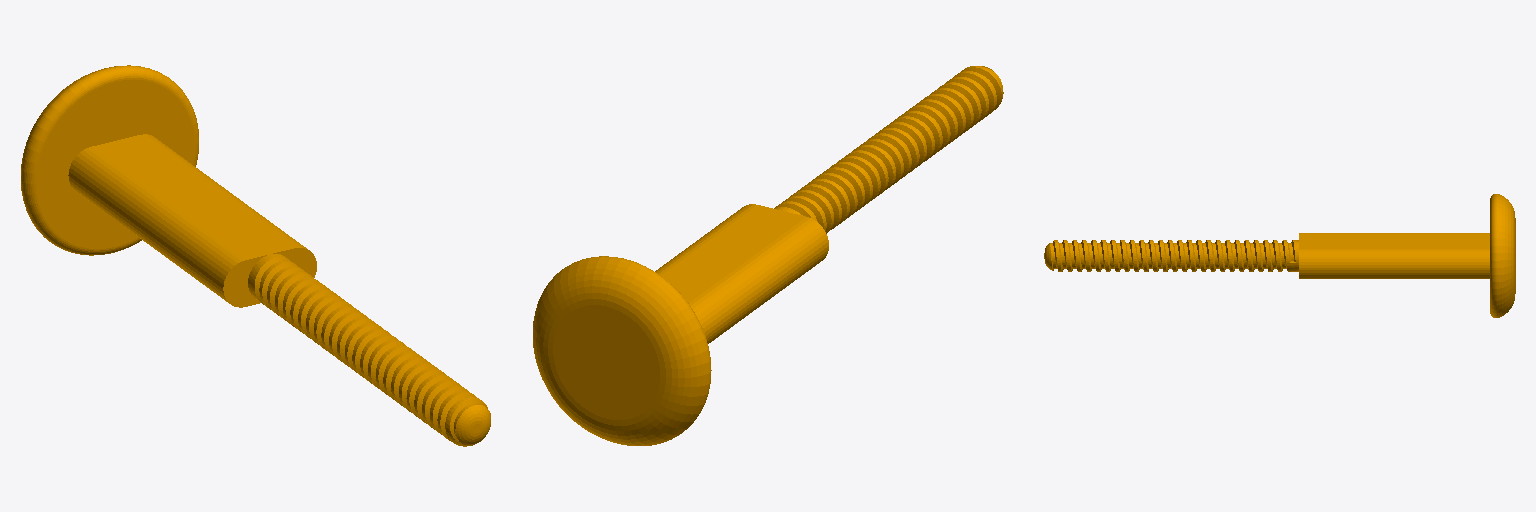
The robot description file, URDF, robot "meca_with_tool":
<?xml version="1.0" ?>
<!-- =================================================================================== -->
<!-- |    This document was autogenerated by xacro from meca_with_tool.xacro           | -->
<!-- |    EDITING THIS FILE BY HAND IS NOT RECOMMENDED                                 | -->
<!-- =================================================================================== -->
<robot name="meca_with_tool">
  <!-- Base link is the center of the robot's bottom plate -->
  <link name="meca_base_link">
    <visual>
      <origin rpy="0 0 0" xyz="0 0 0"/>
      <geometry>
        <mesh filename="package://meca_with_tool/meshes/visual/meca_500_r3_base.dae"/>
      </geometry>
    </visual>
    <collision>
      <origin rpy="0 0 0" xyz="0 0 0"/>
      <geometry>
        <mesh filename="package://meca_with_tool/meshes/collision/meca_500_r3_base_collision.stl"/>
      </geometry>
    </collision>
  </link>
  <!-- Joint 1 -->
  <link name="meca_axis_1_link">
    <visual>
      <origin rpy="0 0 0" xyz="0 0 0"/>
      <geometry>
        <mesh filename="package://meca_with_tool/meshes/visual/meca_500_r3_j1.dae"/>
      </geometry>
    </visual>
    <collision>
      <origin rpy="0 0 0" xyz="0 0 0"/>
      <geometry>
        <mesh filename="package://meca_with_tool/meshes/collision/meca_500_r3_j1_collision.stl"/>
      </geometry>
    </collision>
  </link>
  <joint name="meca_axis_1_joint" type="revolute">
    <origin rpy="0 0 0" xyz="0.012498 0 0.091"/>
    <parent link="meca_base_link"/>
    <child link="meca_axis_1_link"/>
    <axis xyz="0 0 1"/>
    <limit effort="10.0" lower="-3.05433" upper="3.05433" velocity="2.61799"/>
    <dynamics damping="1.0"/>
  </joint>
  <!-- Joint 2 -->
  <link name="meca_axis_2_link">
    <visual>
      <origin rpy="0 0 0" xyz="0 0 0"/>
      <geometry>
        <mesh filename="package://meca_with_tool/meshes/visual/meca_500_r3_j2.dae"/>
      </geometry>
    </visual>
    <collision>
      <origin rpy="0 0 0" xyz="0 0 0"/>
      <geometry>
        <mesh filename="package://meca_with_tool/meshes/collision/meca_500_r3_j2_collision.stl"/>
      </geometry>
    </collision>
  </link>
  <joint name="meca_axis_2_joint" type="revolute">
    <origin rpy="0 0 0" xyz="0 0 0.044"/>
    <parent link="meca_axis_1_link"/>
    <child link="meca_axis_2_link"/>
    <axis xyz="0 1 0"/>
    <limit effort="10.0" lower="-1.22173048" upper="1.5708" velocity="2.61799"/>
    <dynamics damping="1.0"/>
  </joint>
  <!-- Joint 3 -->
  <link name="meca_axis_3_link">
    <visual>
      <origin rpy="0 0 0" xyz="0 0 0"/>
      <geometry>
        <mesh filename="package://meca_with_tool/meshes/visual/meca_500_r3_j3.dae"/>
      </geometry>
    </visual>
    <collision>
      <origin rpy="0 0 0" xyz="0 0 0"/>
      <geometry>
        <mesh filename="package://meca_with_tool/meshes/collision/meca_500_r3_j3_collision.stl"/>
      </geometry>
    </collision>
  </link>
  <joint name="meca_axis_3_joint" type="revolute">
    <origin rpy="0 0 0" xyz="0 0 0.135"/>
    <parent link="meca_axis_2_link"/>
    <child link="meca_axis_3_link"/>
    <axis xyz="0 1 0"/>
    <limit effort="10.0" lower="-2.35619" upper="1.22173048" velocity="3.14159"/>
    <dynamics damping="1.0"/>
  </joint>
  <!-- Joint 4 -->
  <link name="meca_axis_4_link">
    <visual>
      <origin rpy="0 0 0" xyz="0 0 0"/>
      <geometry>
        <mesh filename="package://meca_with_tool/meshes/visual/meca_500_r3_j4.dae"/>
      </geometry>
    </visual>
    <collision>
      <origin rpy="0 0 0" xyz="0 0 0"/>
      <geometry>
        <mesh filename="package://meca_with_tool/meshes/collision/meca_500_r3_j4_collision.stl"/>
      </geometry>
    </collision>
  </link>
  <joint name="meca_axis_4_joint" type="revolute">
    <origin rpy="0 0 0" xyz="0 0 0.038"/>
    <parent link="meca_axis_3_link"/>
    <child link="meca_axis_4_link"/>
    <axis xyz="1 0 0"/>
    <limit effort="10.0" lower="-2.96706" upper="2.96706" velocity="5.23599"/>
    <dynamics damping="1.0"/>
  </joint>
  <!-- Joint 5 -->
  <link name="meca_axis_5_link">
    <visual>
      <origin rpy="0 0 0" xyz="0 0 0"/>
      <geometry>
        <mesh filename="package://meca_with_tool/meshes/visual/meca_500_r3_j5.dae"/>
      </geometry>
    </visual>
    <collision>
      <origin rpy="0 0 0" xyz="0 0 0"/>
      <geometry>
        <mesh filename="package://meca_with_tool/meshes/collision/meca_500_r3_j5_collision.stl"/>
      </geometry>
    </collision>
  </link>
  <joint name="meca_axis_5_joint" type="revolute">
    <origin rpy="0 0 0" xyz="0.12 0 0"/>
    <parent link="meca_axis_4_link"/>
    <child link="meca_axis_5_link"/>
    <axis xyz="0 1 0"/>
    <limit effort="10.0" lower="-2.00713" upper="2.00713" velocity="5.23599"/>
    <dynamics damping="1.0"/>
  </joint>
  <!-- Joint 6 -->
  <link name="meca_axis_6_link">
    <visual>
      <origin rpy="0 0 0" xyz="0 0 0"/>
      <geometry>
        <mesh filename="package://meca_with_tool/meshes/visual/meca_500_r3_j6.dae"/>
      </geometry>
    </visual>
    <collision>
      <origin rpy="0 0 0" xyz="0 0 0"/>
      <geometry>
        <mesh filename="package://meca_with_tool/meshes/collision/meca_500_r3_j6_collision.stl"/>
      </geometry>
    </collision>
  </link>
  <joint name="meca_axis_6_joint" type="revolute">
    <origin rpy="0 0 0" xyz="0.07 0 0"/>
    <parent link="meca_axis_5_link"/>
    <child link="meca_axis_6_link"/>
    <axis xyz="1 0 0"/>
    <limit effort="10.0" lower="-3.14159" upper="3.14159" velocity="8.72665"/>
    <dynamics damping="1.0"/>
  </joint>
  <!-- ur5 -->
  <!-- The ur5 xacro must be included with passing parameters -->
  <!-- Create a fixed joint with a parameterized name. -->
  <joint name="tool_joint" type="fixed">
    <!-- The parent link must be read from the robot model it is attached to. -->
    <parent link="meca_axis_6_link"/>
    <child link="tool"/>
    <!-- The tool is directly attached to the flange. -->
    <origin rpy="0 0 0" xyz="-0.04 -0.110 -0.071"/>
    <axis xyz="0 0 0"/>
    <limit effort="10.0" lower="-3.05433" upper="3.05433" velocity="2.61799"/>
  </joint>
  <link name="tool">
    <visual>
      <geometry>
        <!-- The path to the visual meshes in the package. -->
        <mesh filename="package://meca_with_tool/meshes/visual/Tool_header.dae" scale="0.001 0.001 0.001"/>
      </geometry>
    </visual>
    <collision>
      <geometry>
        <!-- The path to the collision meshes in the package. -->
        <mesh filename="package://meca_with_tool/meshes/collision/Tool_header_collision.stl" scale="0.001 0.001 0.001"/>
      </geometry>
    </collision>
  </link>
  <!-- TCP frame -->
  <joint name="tcp_joint" type="prismatic">
    <origin rpy="3.14159 0 0" xyz="0.073 0.07 0.08"/>
    <parent link="tool"/>
    <child link="tcp"/>
    <axis xyz=" 0 1 0"/>
    <limit effort="10.0" lower="0.000" upper="0.070" velocity="0.60"/>
  </joint>
  <link name="tcp">
    <visual>
      <geometry>
        <!-- The path to the visual meshes in the package. -->
        <mesh filename="package://meca_with_tool/meshes/visual/tcp.dae" scale="0.001 0.001 0.001"/>
      </geometry>
    </visual>
    <collision>
      <geometry>
        <!-- The path to the collision meshes in the package. -->
        <mesh filename="package://meca_with_tool/meshes/collision/tcp.stl" scale="0.001 0.001 0.001"/>
      </geometry>
    </collision>
  </link>
  <!-- define the ur5's position and orientation in the world coordinate system -->
  <link name="world"/>
  <joint name="world_joint" type="fixed">
    <parent link="world"/>
    <child link="meca_base_link"/>
    <!-- TODO: check base_link name of robot -->
    <origin rpy="0.0 0.0 0.0" xyz="0.0 0.0 0.0"/>
  </joint>
</robot>

--- Facts derived from the render (not from the file) ---
3 views of the same robot in one strip: view 1: azimuth 30°, elevation 25°; view 2: azimuth 150°, elevation 25°; view 3: azimuth 270°, elevation 25° (orthographic).
Robot: meca_with_tool — 10 links, 9 joints (6 revolute, 1 prismatic, 2 fixed); root link world; default pose: every joint at zero.
Links seen in each view (by area): view 1: tcp; view 2: tcp; view 3: tcp.
Boxes of the visible links, x1,y1,x2,y2 form: tcp: (21, 65, 490, 446); tcp: (533, 66, 1003, 445); tcp: (1044, 194, 1515, 317).
Size in the robot's own frame: 0.0197 by 0.074 by 0.0197 metres.
1 mesh visuals loaded from 9 distinct referenced files (1 Collada DAE); not drawn: 8 (reference not matched to a file when rendering).